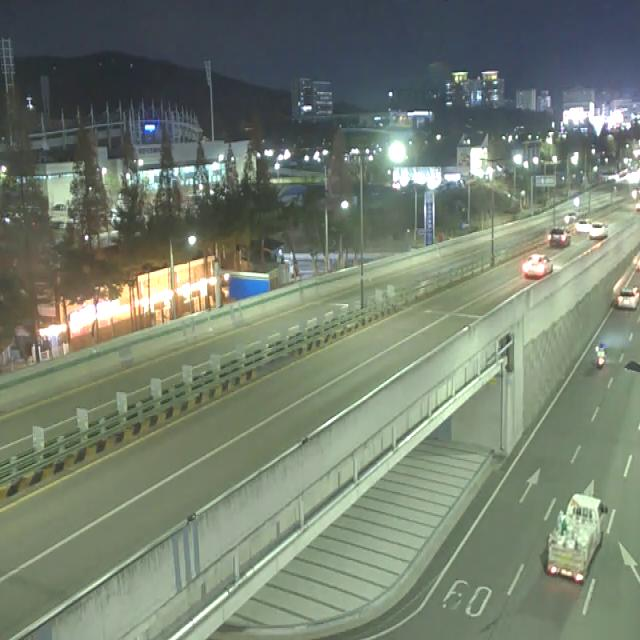Car: (522, 254, 553, 278), (618, 286, 639, 309), (548, 227, 571, 248), (589, 221, 608, 240), (576, 218, 592, 232), (564, 213, 576, 224)
Motorcycle: (589, 336, 613, 377)
Truck: (547, 493, 608, 583)
